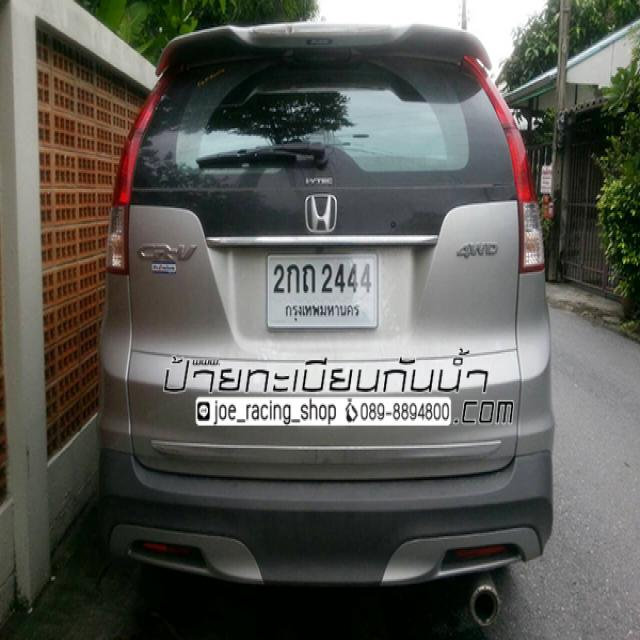license_plate: (266, 252, 378, 334)
